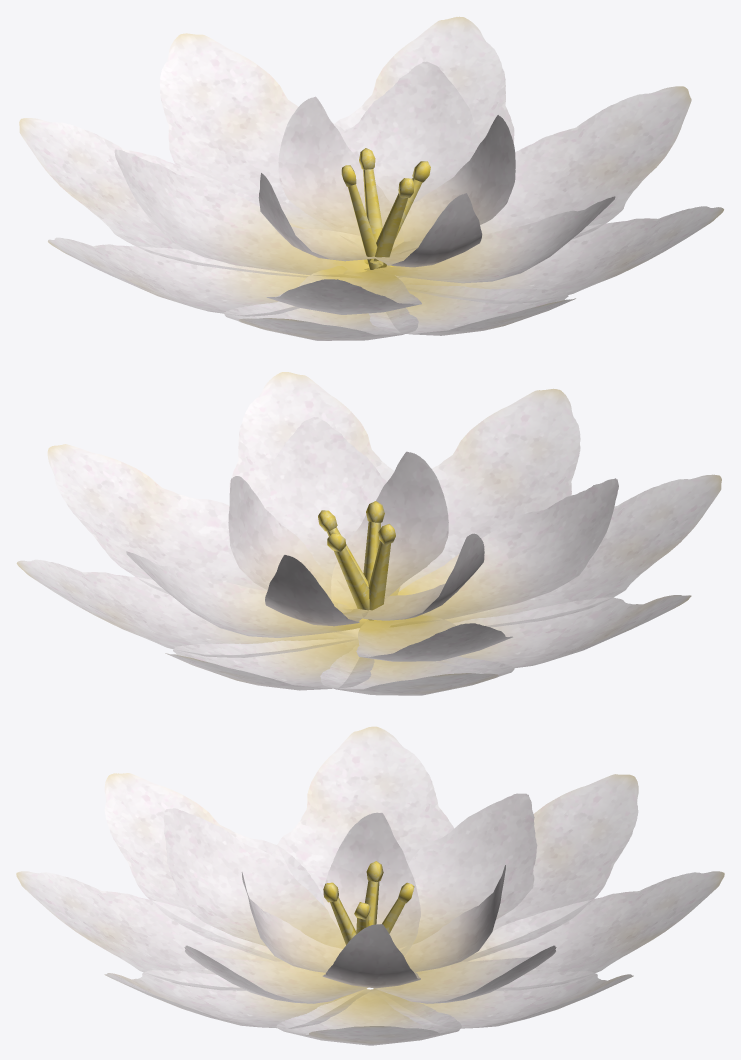
The model's file is SM_Lotus_01.fbx.
3 views of the same model, one above another, from view 1: azimuth 30°, elevation 25°; view 2: azimuth 150°, elevation 25°; view 3: azimuth 270°, elevation 25° (orthographic). The views are drawn at different scales.
Visible parts, largest first — view 1: SM_Lotus_01_LOD0; view 2: SM_Lotus_01_LOD0; view 3: SM_Lotus_01_LOD0.
Part boxes in pixels (box(x1,y1,x2,y2)): SM_Lotus_01_LOD0: box(19, 16, 723, 340); SM_Lotus_01_LOD0: box(16, 372, 721, 695); SM_Lotus_01_LOD0: box(16, 726, 724, 1045).
Bounding box in the file's own units: 52.16 × 52.16 × 10.75.
1 material, 1 textured.
